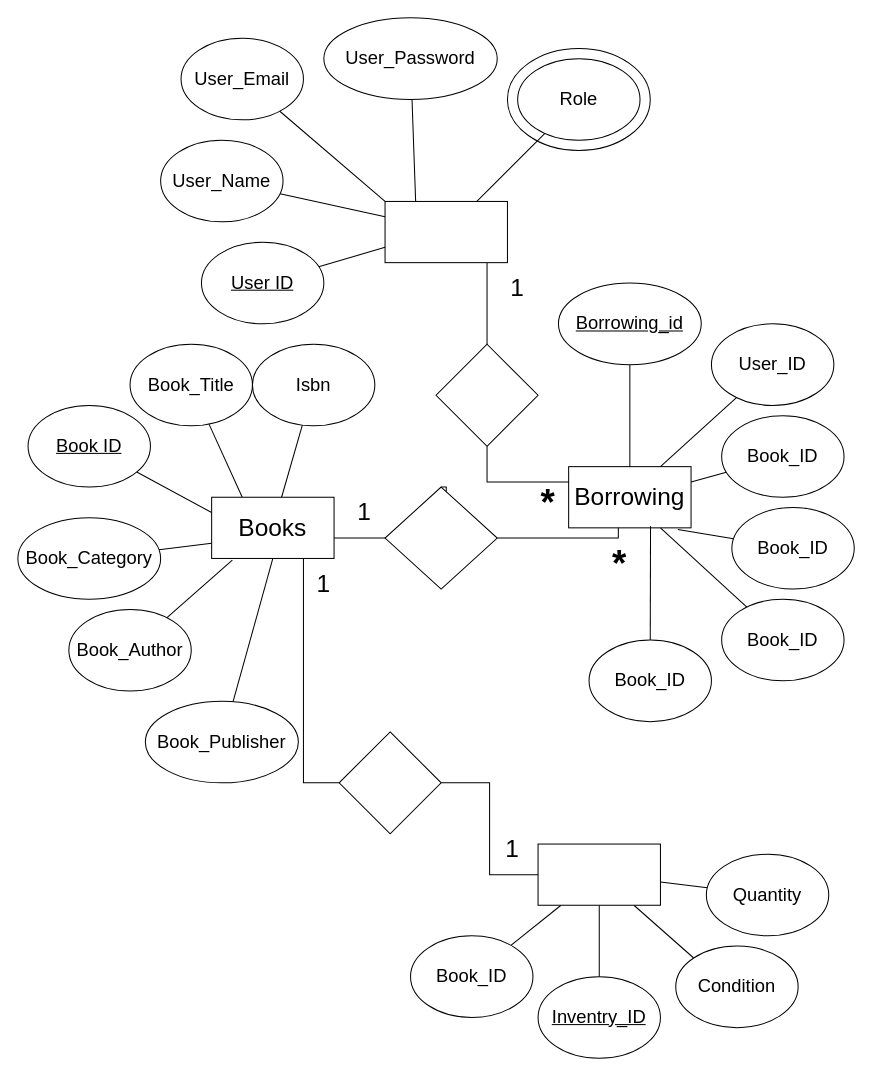
This 872x1076 diagram has some shape labels left out. The shapes that lost their labels are listed below. From the top down, each one's box as (x1, y1, x2, y2) in pixels, then its label:
(384, 200, 507, 263): User
(435, 343, 538, 446): Borrows
(384, 486, 497, 589): is Borrows
(338, 731, 441, 834): Store
(537, 843, 660, 905): Inventory
